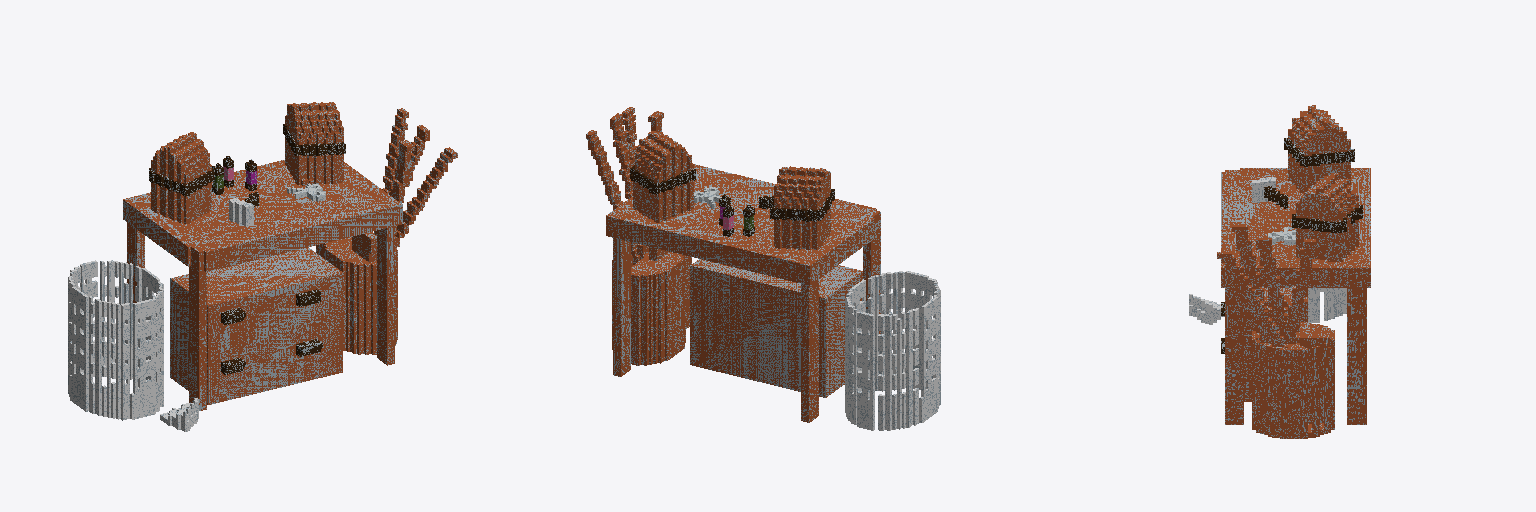
The model's file is workbench_sawing.obj.
3 views of the same model, side by side, from view 1: azimuth 30°, elevation 25°; view 2: azimuth 150°, elevation 25°; view 3: azimuth 270°, elevation 25° (orthographic).
Visible parts, largest first — view 1: Mesh2 Model, Mesh7 Model, Mesh3 Model, Mesh1 Model, Mesh6 Model, Mesh4 Model, Mesh8 Model, Mesh5 Model; view 2: Mesh2 Model, Mesh7 Model, Mesh3 Model, Mesh1 Model, Mesh5 Model, Mesh6 Model; view 3: Mesh2 Model, Mesh1 Model, Mesh7 Model, Mesh4 Model, Mesh6 Model.
Part boxes in pixels (left/top/right/bottom): Mesh2 Model: left=123, top=102, right=402, bottom=410; Mesh7 Model: left=170, top=247, right=342, bottom=404; Mesh3 Model: left=68, top=266, right=163, bottom=420; Mesh1 Model: left=324, top=108, right=457, bottom=354; Mesh6 Model: left=100, top=260, right=132, bottom=379; Mesh4 Model: left=160, top=398, right=198, bottom=431; Mesh8 Model: left=135, top=266, right=159, bottom=379; Mesh5 Model: left=80, top=260, right=97, bottom=376; Mesh2 Model: left=606, top=131, right=880, bottom=422; Mesh7 Model: left=690, top=259, right=862, bottom=397; Mesh3 Model: left=868, top=271, right=940, bottom=430; Mesh1 Model: left=586, top=107, right=685, bottom=365; Mesh5 Model: left=857, top=311, right=874, bottom=430; Mesh6 Model: left=845, top=297, right=857, bottom=424; Mesh2 Model: left=1221, top=105, right=1370, bottom=424; Mesh1 Model: left=1217, top=224, right=1334, bottom=438; Mesh7 Model: left=1221, top=288, right=1307, bottom=401; Mesh4 Model: left=1189, top=294, right=1224, bottom=324; Mesh6 Model: left=1324, top=288, right=1346, bottom=320.
Size of the model in its own units: 2.13 by 1.37 by 0.9876.